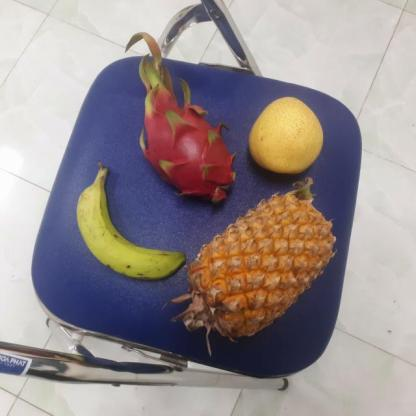banana: (74, 168, 184, 282)
pear: (245, 98, 324, 177)
pineapple: (179, 189, 328, 338)
pitaya: (141, 98, 236, 204)
